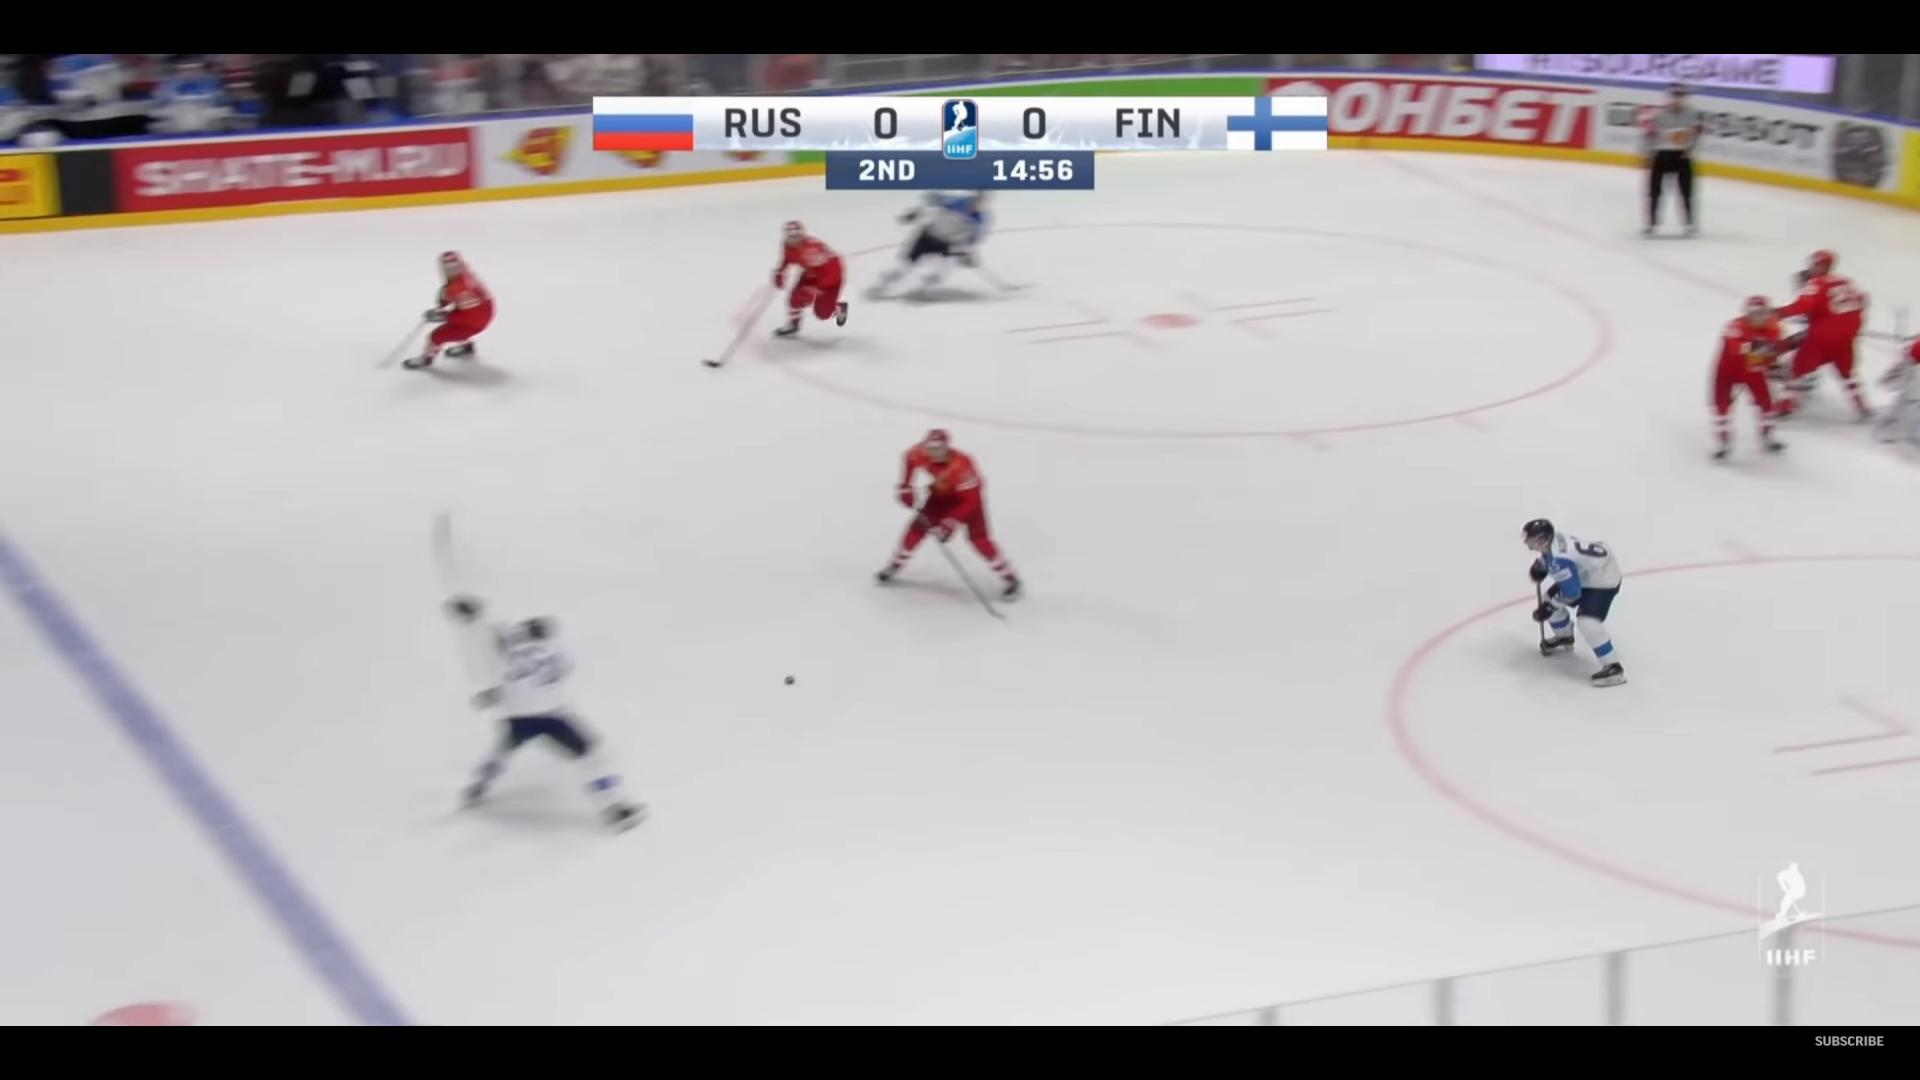puck: (783, 674, 794, 684)
